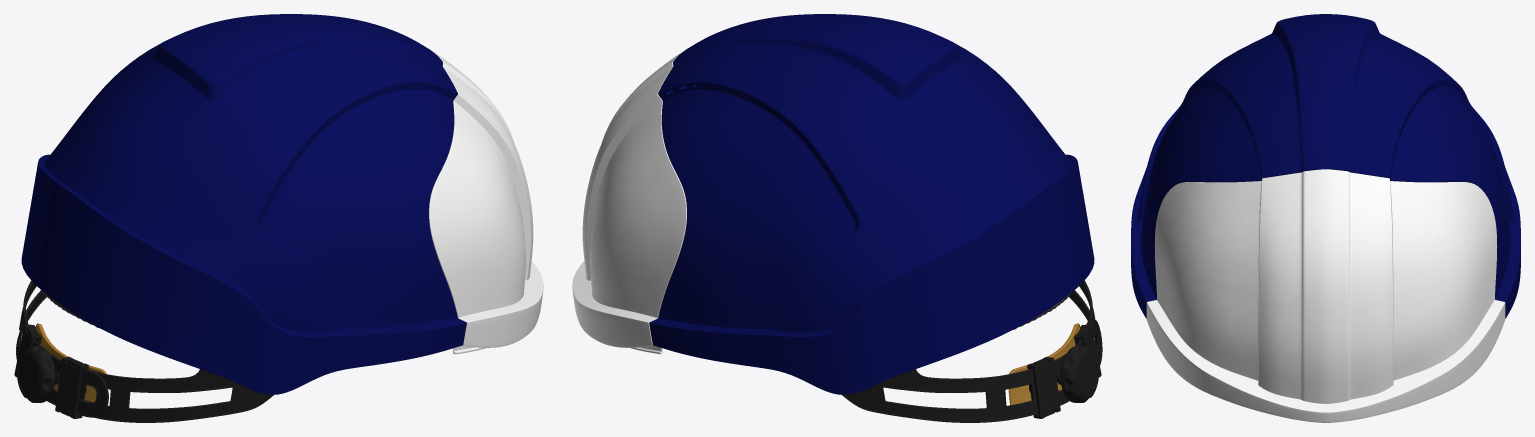
The model's file is casco_pantalla.glb.
The picture shows the model from 3 angles, left to right: view 1: azimuth 30°, elevation 25°; view 2: azimuth 150°, elevation 25°; view 3: azimuth 270°, elevation 25°; orthographic projection. The views are drawn at different scales.
Visible parts, largest first — view 1: body_01_mesh_00, visor_01_mesh_00; view 2: body_01_mesh_00, visor_01_mesh_00; view 3: visor_01_mesh_00, body_01_mesh_00.
Boxes of the visible parts, bbox=[...] form: body_01_mesh_00: bbox=[14, 14, 466, 422]; visor_01_mesh_00: bbox=[429, 49, 543, 354]; body_01_mesh_00: bbox=[649, 14, 1102, 422]; visor_01_mesh_00: bbox=[572, 49, 686, 354]; visor_01_mesh_00: bbox=[1146, 169, 1505, 422]; body_01_mesh_00: bbox=[1131, 14, 1520, 318].
Size of the model in its own units: 0.2673 by 0.1628 by 0.2032.
Materials: 6 (3 with a texture image).
